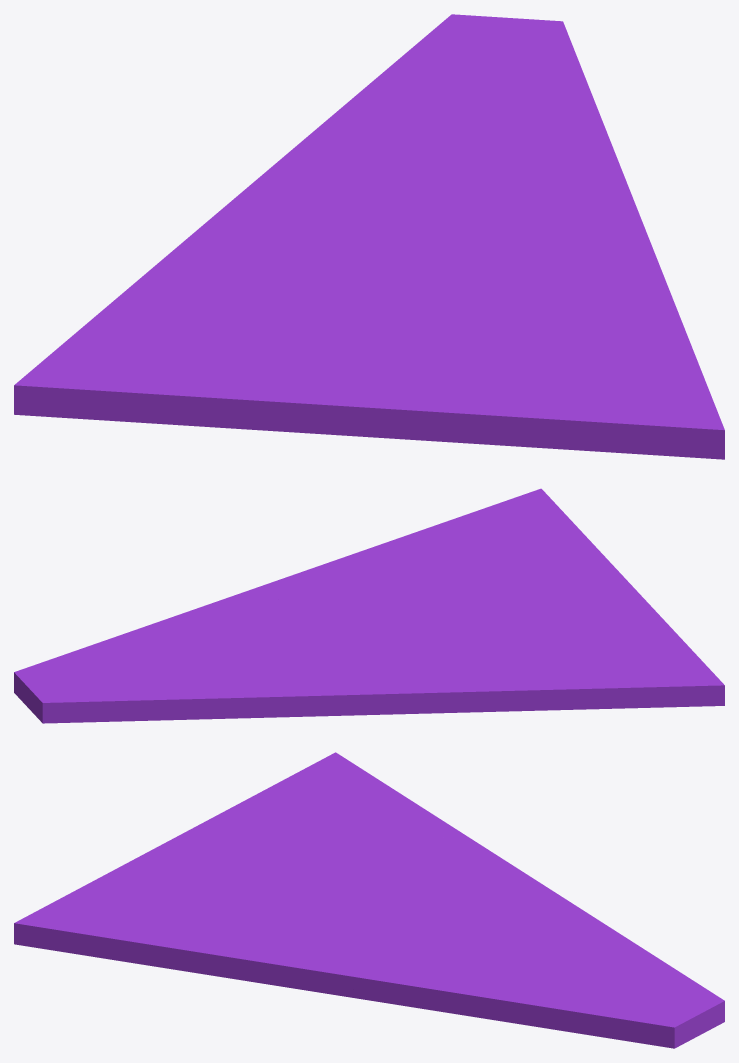
Rendered from StairsStep_1_chunks.fbx.
The picture shows the model from 3 angles, top to bottom: view 1: azimuth 30°, elevation 25°; view 2: azimuth 150°, elevation 25°; view 3: azimuth 270°, elevation 25°; orthographic projection. The views are drawn at different scales.
Visible parts, largest first — view 1: StairsStep_1_2, StairsStep_1_0, StairsStep_1_1, StairsStep_1_3; view 2: StairsStep_1_2, StairsStep_1_0, StairsStep_1_1, StairsStep_1_3; view 3: StairsStep_1_2, StairsStep_1_1, StairsStep_1_0, StairsStep_1_3.
Boxes of the visible parts, x1,y1,x2,y2 form: StairsStep_1_2: [393, 208, 724, 459]; StairsStep_1_0: [14, 227, 445, 441]; StairsStep_1_1: [377, 14, 639, 213]; StairsStep_1_3: [140, 77, 445, 278]; StairsStep_1_2: [262, 488, 626, 639]; StairsStep_1_0: [361, 580, 724, 711]; StairsStep_1_1: [14, 586, 320, 723]; StairsStep_1_3: [159, 637, 529, 719]; StairsStep_1_2: [14, 843, 441, 996]; StairsStep_1_1: [347, 929, 724, 1048]; StairsStep_1_0: [164, 752, 446, 913]; StairsStep_1_3: [426, 823, 658, 958].
Size of the model in its own units: 500 by 17.94 by 546.
